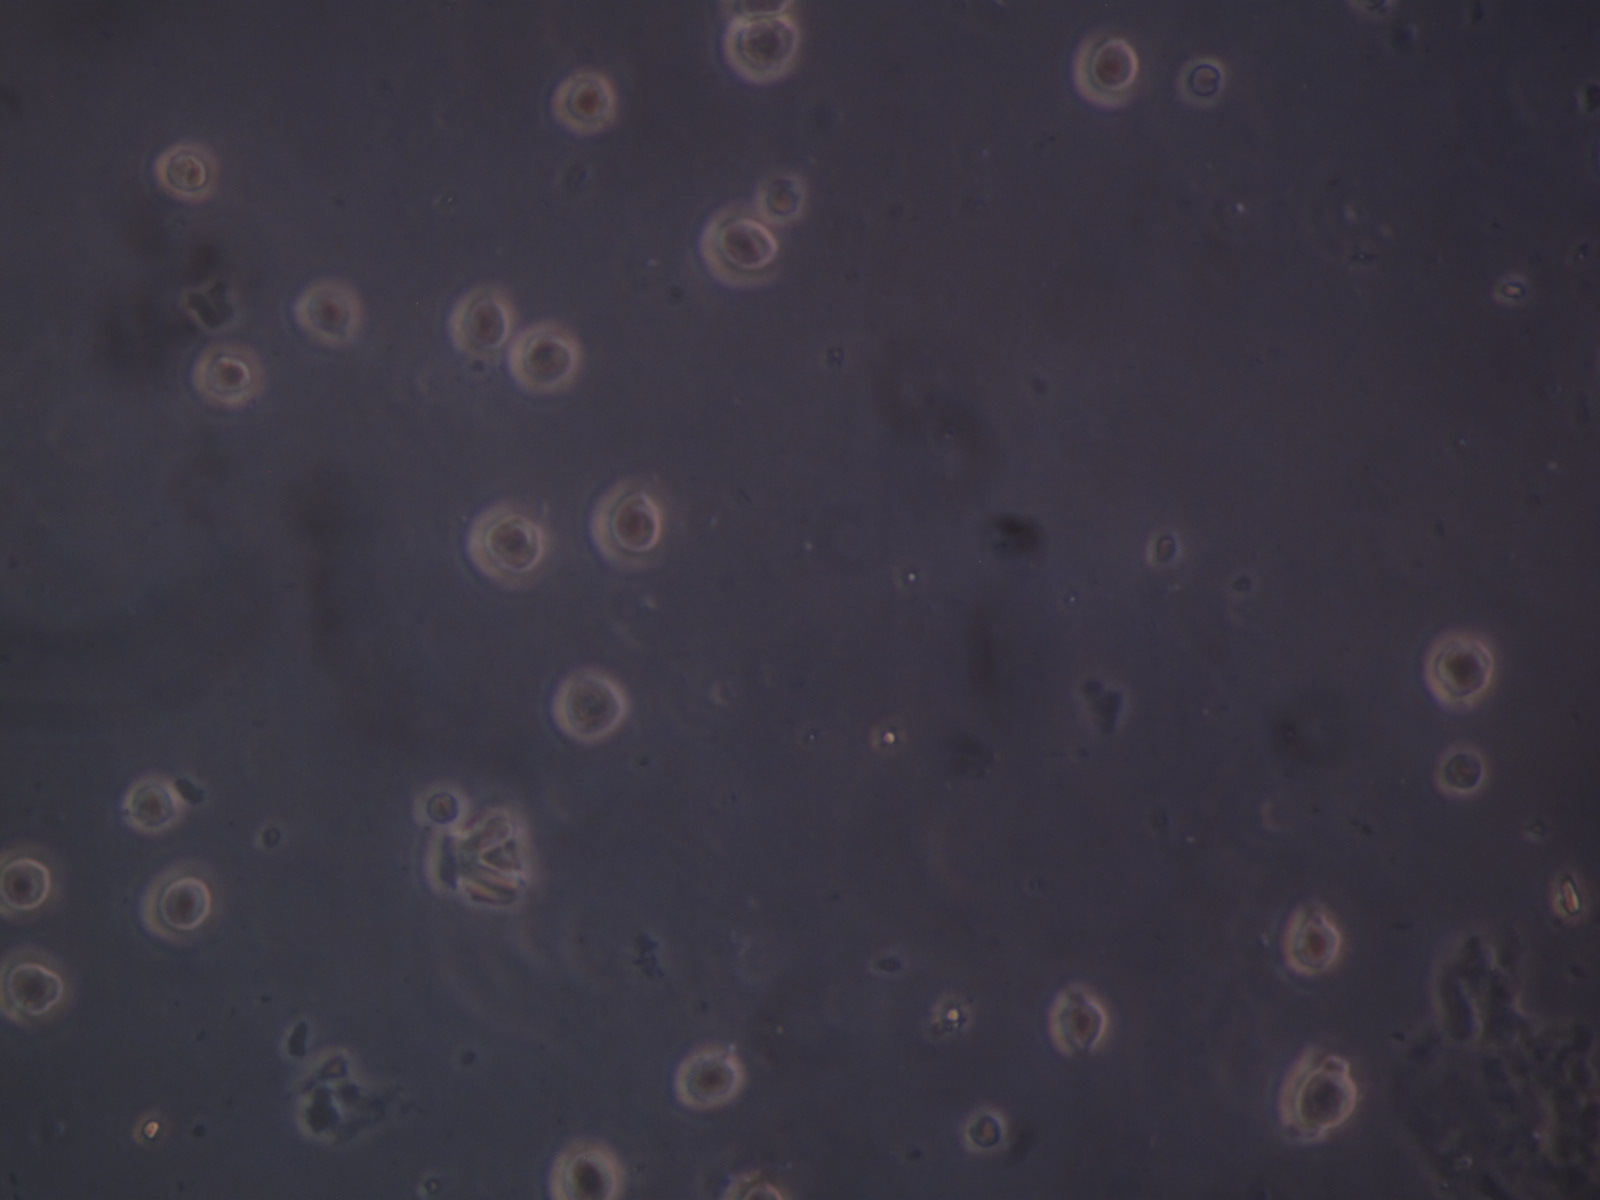hemo: (466, 500, 546, 595), (698, 202, 780, 289), (590, 476, 661, 574), (141, 863, 210, 947), (1071, 26, 1140, 108), (552, 671, 627, 744), (1425, 632, 1495, 710), (509, 319, 583, 392), (724, 13, 803, 82), (1, 943, 64, 1029), (191, 338, 265, 408), (296, 274, 365, 348), (551, 1134, 629, 1200), (551, 64, 619, 136), (1283, 1065, 1358, 1129), (449, 284, 513, 355), (1280, 900, 1340, 976), (674, 1046, 745, 1111), (1052, 979, 1110, 1058), (154, 140, 222, 205), (1, 843, 50, 921), (125, 774, 186, 833), (752, 170, 808, 223), (409, 780, 467, 828), (1437, 746, 1488, 795), (1177, 55, 1225, 107), (963, 1108, 1008, 1157)
